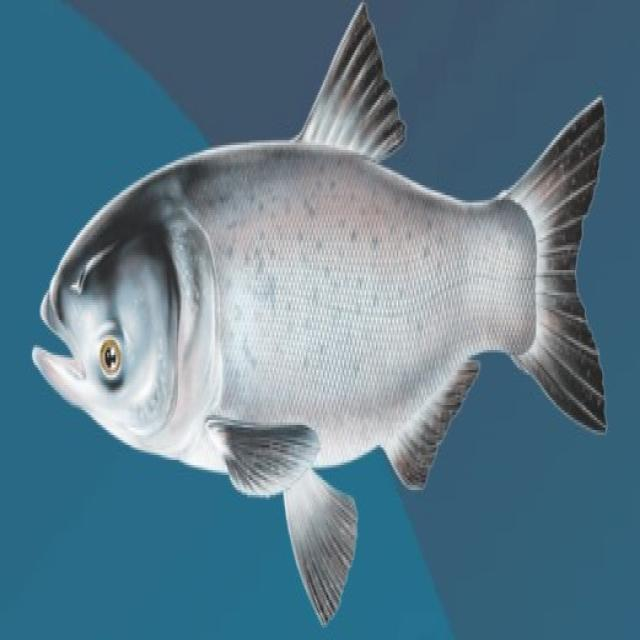Big-Head-Carp: (18, 0, 635, 631)
